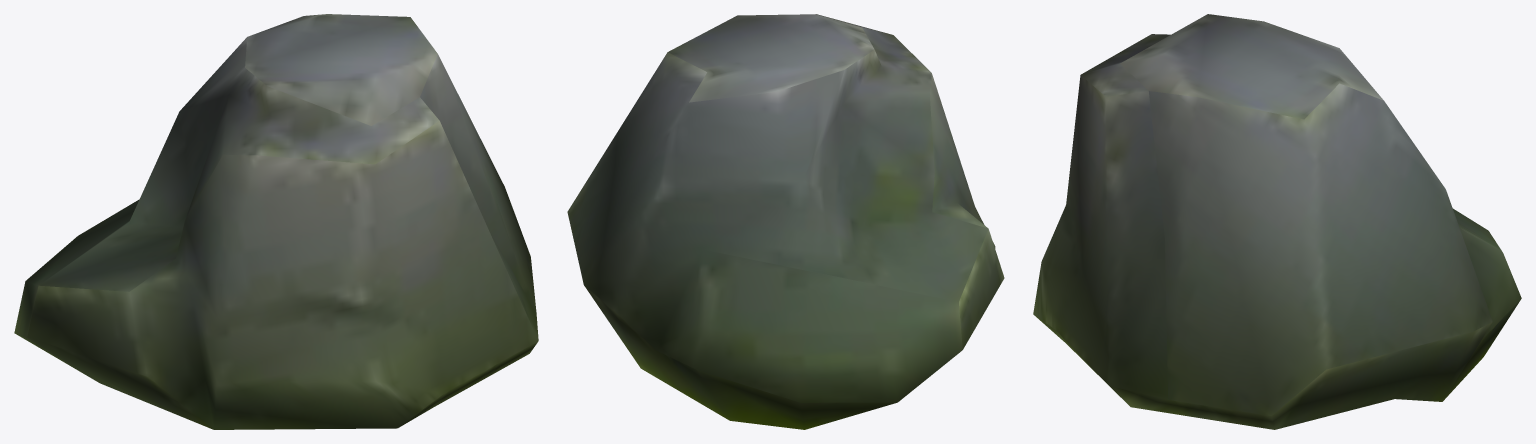
File: rock-medium-1.glb
The picture shows the model from 3 angles, left to right: view 1: azimuth 30°, elevation 25°; view 2: azimuth 150°, elevation 25°; view 3: azimuth 270°, elevation 25°; orthographic projection. The views are drawn at different scales.
Visible parts, largest first — view 1: Rock_Medium_1; view 2: Rock_Medium_1; view 3: Rock_Medium_1.
Part boxes in pixels (x1,y1,x2,y2): Rock_Medium_1: (14,14,538,429); Rock_Medium_1: (567,14,1004,429); Rock_Medium_1: (1033,14,1521,429).
Size of the model in its own units: 3.24 by 2.25 by 2.99.
Materials: 1 (1 with a texture image).
